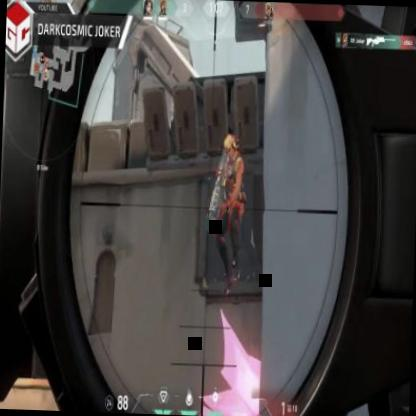enemy: (204, 132, 250, 296)
enemy_head: (222, 134, 238, 158)
